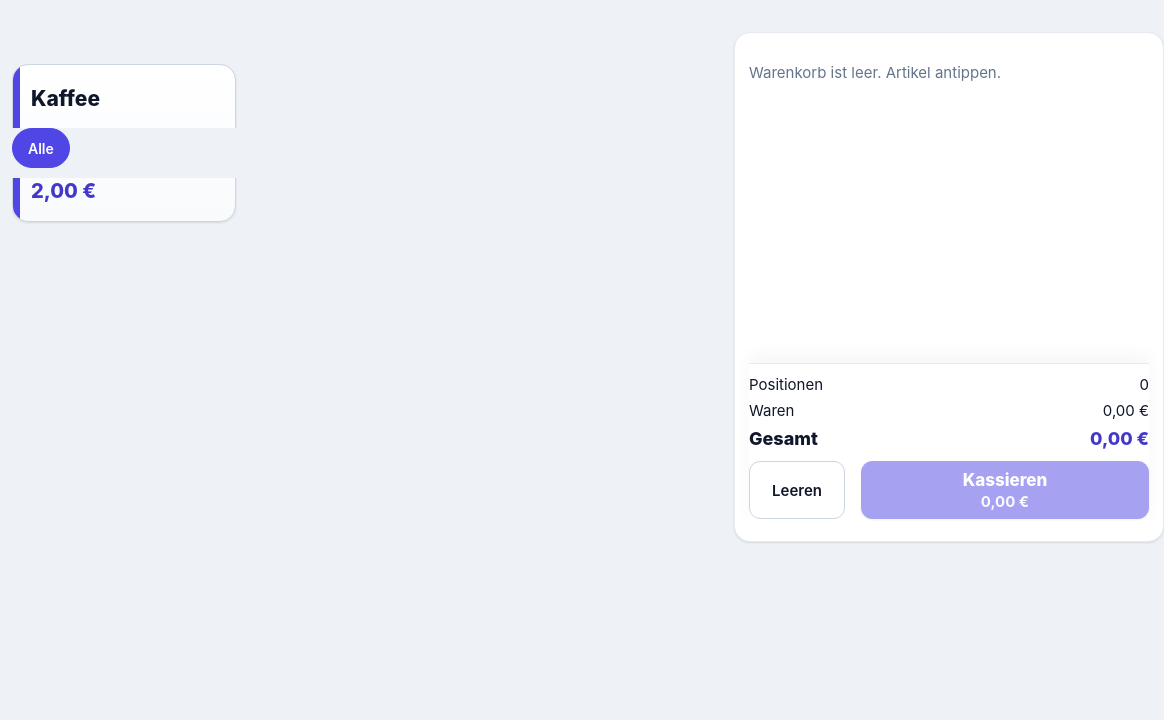
Test: Verkauf Component › sollte den Warenkorb leeren, wenn der Leeren-Button geklickt wird
Click the text "Kaffee" at (66, 98), box [31,86,100,111]
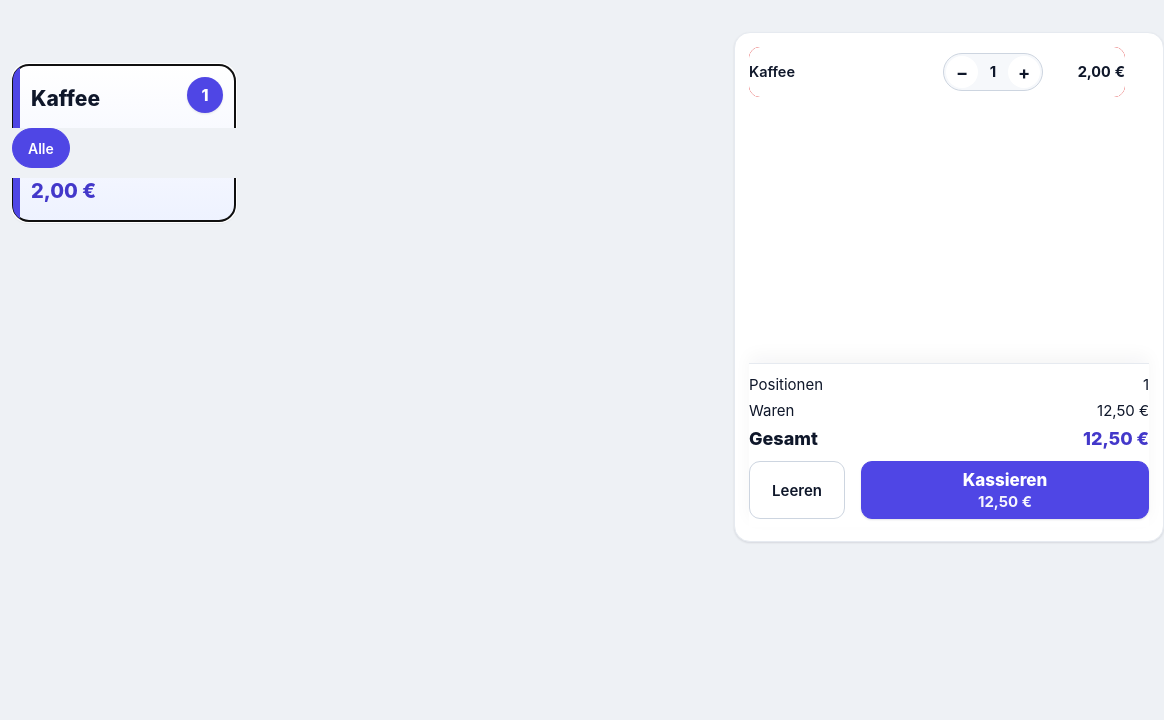
Expected: the button "Kassieren 12,50 €" is enabled, [861,461,1149,519]
Click the button "Leeren" at (797, 490), box [749,461,845,519]
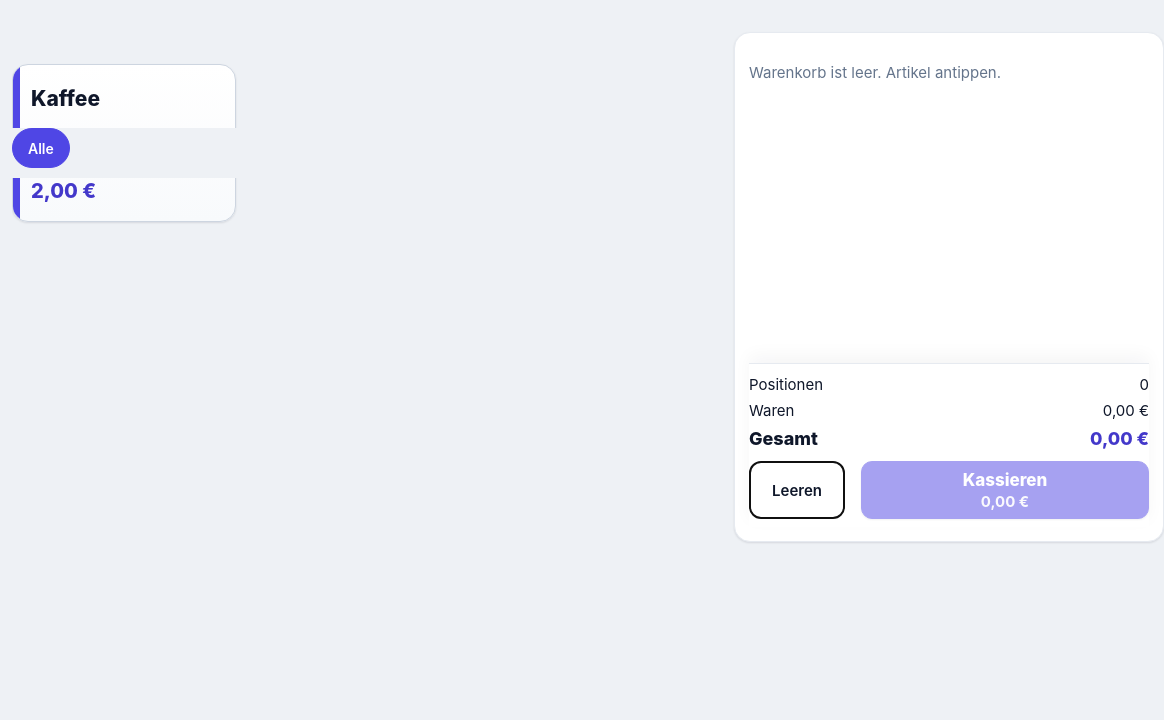
Expected: the button "Kassieren 0,00 €" is disabled, [861,461,1149,519]
Expected: the text "Warenkorb ist leer. Artikel antippen." is shown, [749,63,1001,82]
